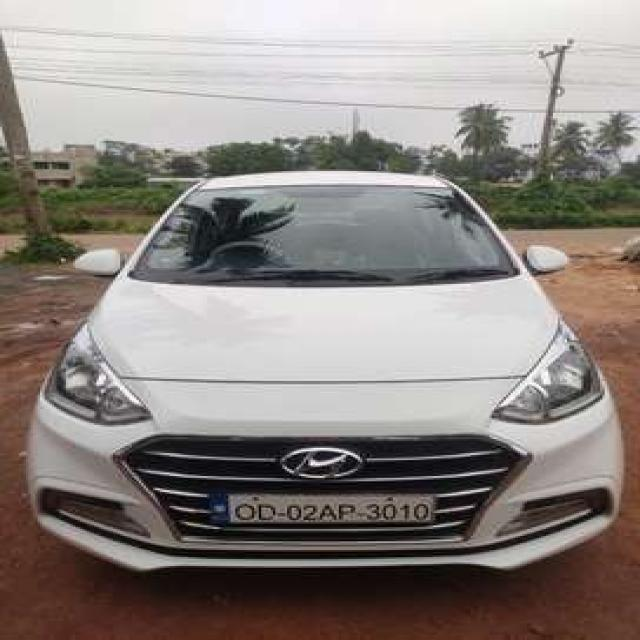Plate: (208, 491, 432, 523)
